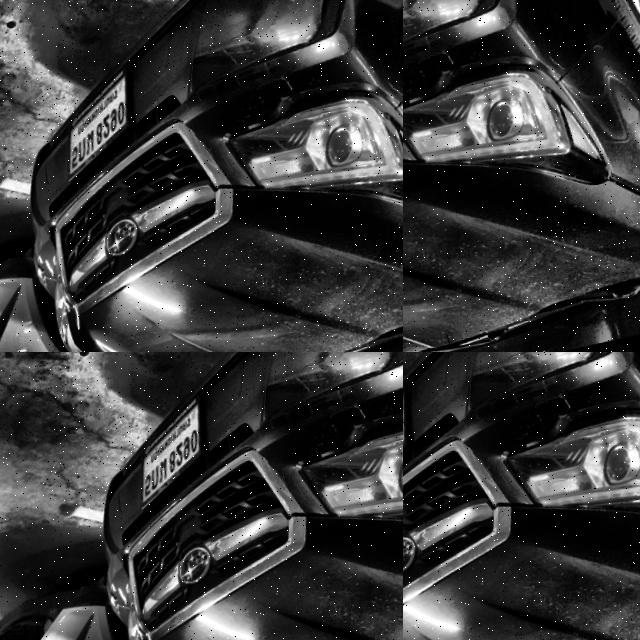license-plate: (403, 382, 427, 503)
